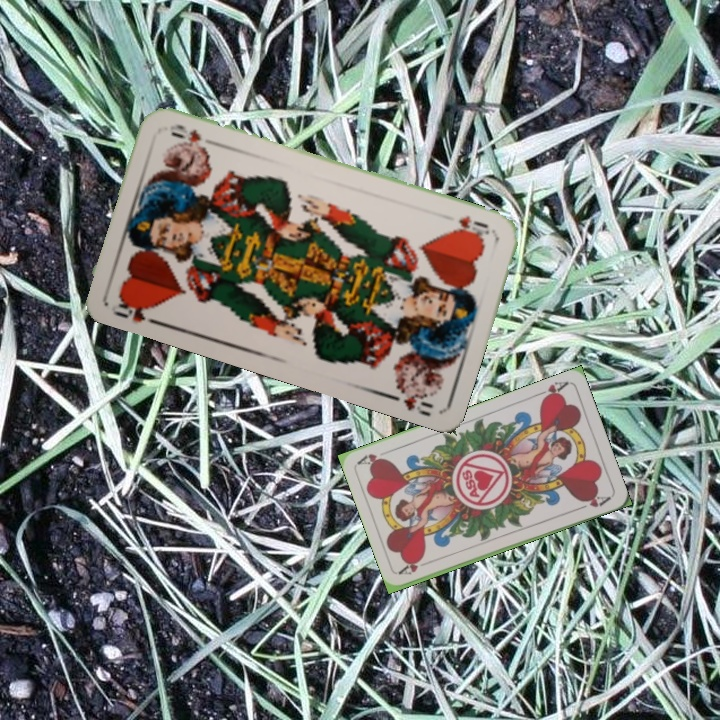HA: (532, 377, 571, 404), (396, 556, 435, 577)
HO: (107, 292, 163, 328), (449, 211, 496, 242)
